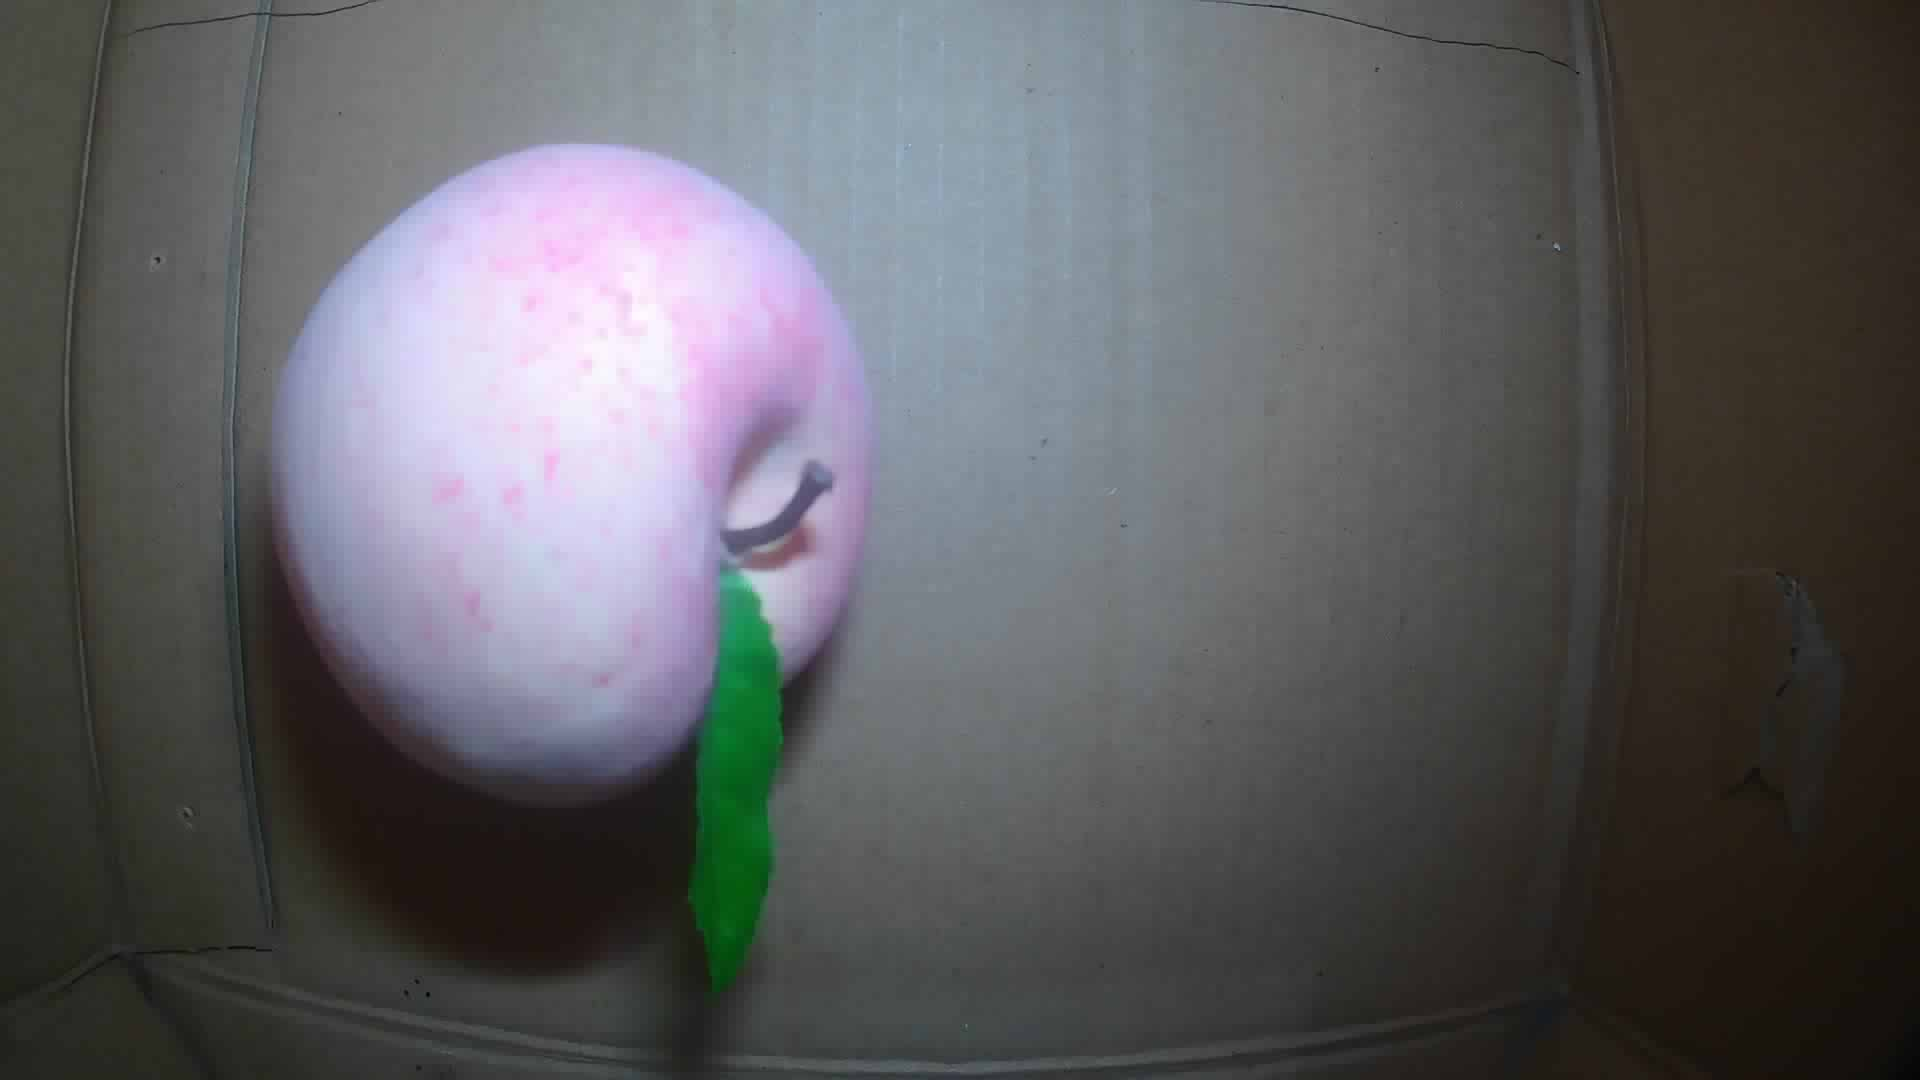peach: (269, 146, 878, 815)
